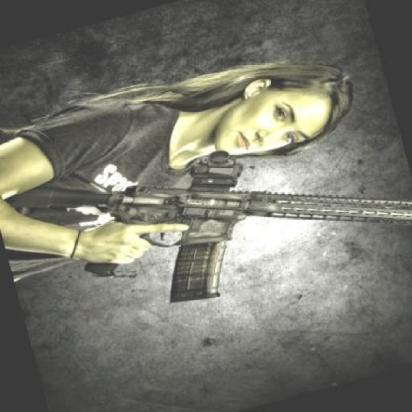Gun: (11, 151, 412, 298)
